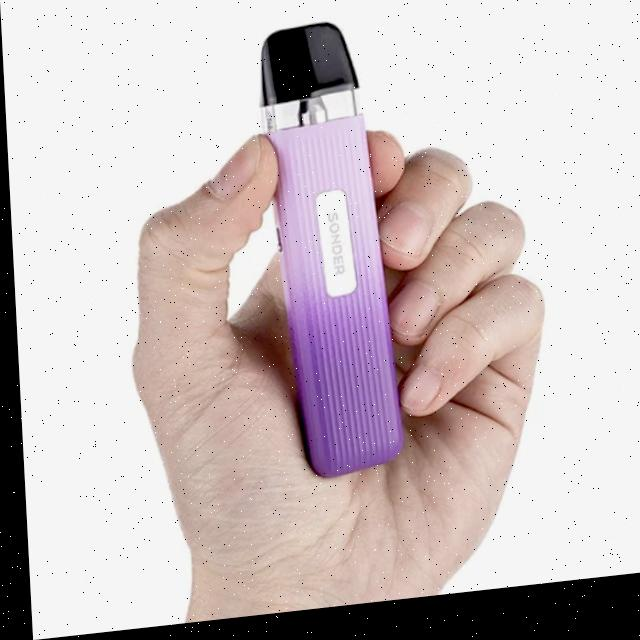vape: (256, 24, 403, 489)
